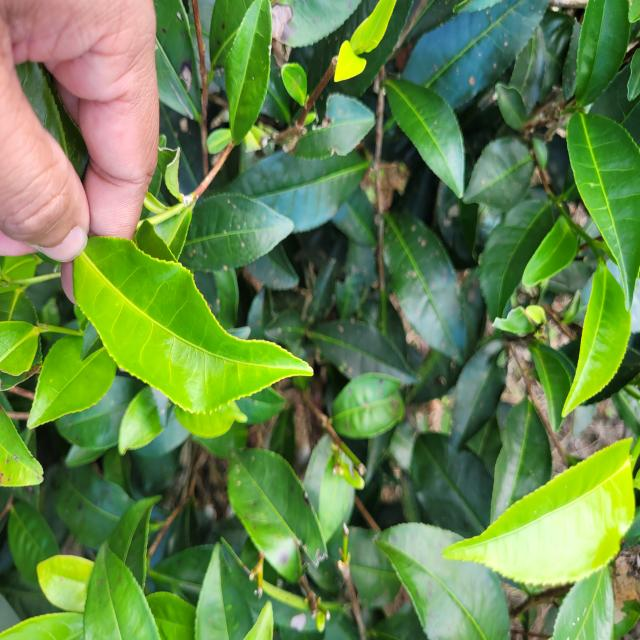Category B 2-4 days: (54, 200, 327, 436)
